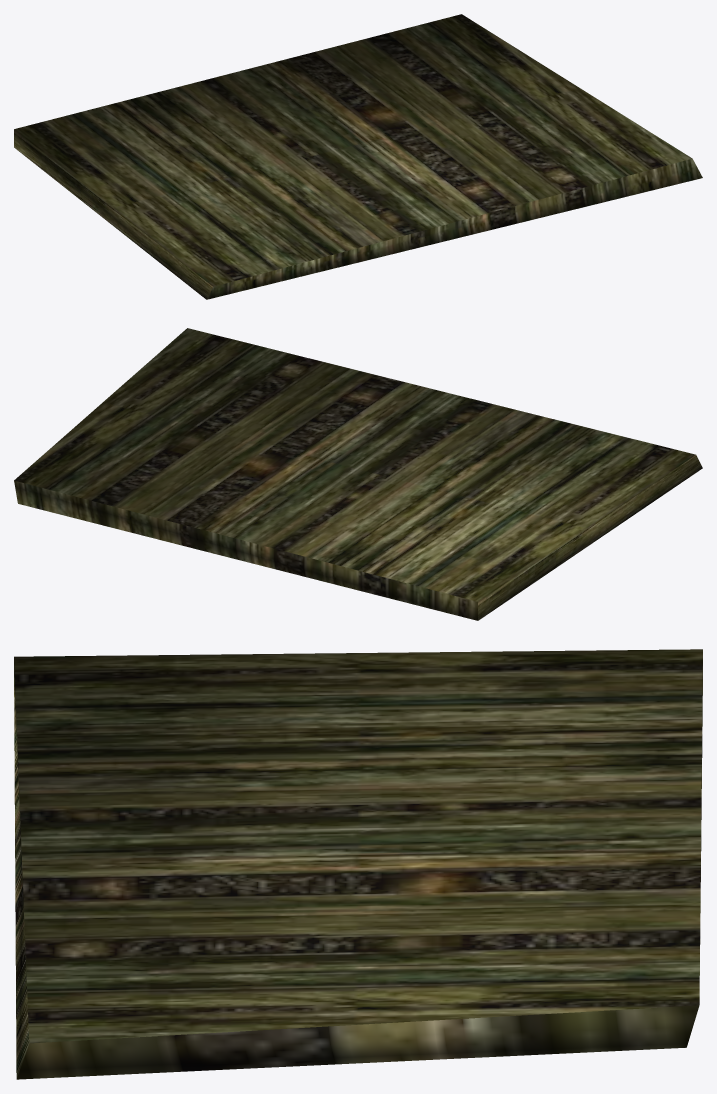
Rendered from PC_LOB_BRIDGE.glb.
3 renders of one model, top to bottom at view 1: azimuth 30°, elevation 25°; view 2: azimuth 150°, elevation 25°; view 3: azimuth 270°, elevation 25°, orthographic. The views are drawn at different scales.
Visible parts, largest first — view 1: Mesh; view 2: Mesh; view 3: Mesh.
Part boxes in pixels (x1=…): Mesh: x1=14, y1=14, x2=702, y2=299; Mesh: x1=14, y1=328, x2=702, y2=620; Mesh: x1=14, y1=649, x2=702, y2=1079.
Bounding box in the file's own units: 3.79 × 0.183 × 2.7.
1 material, 1 textured.
